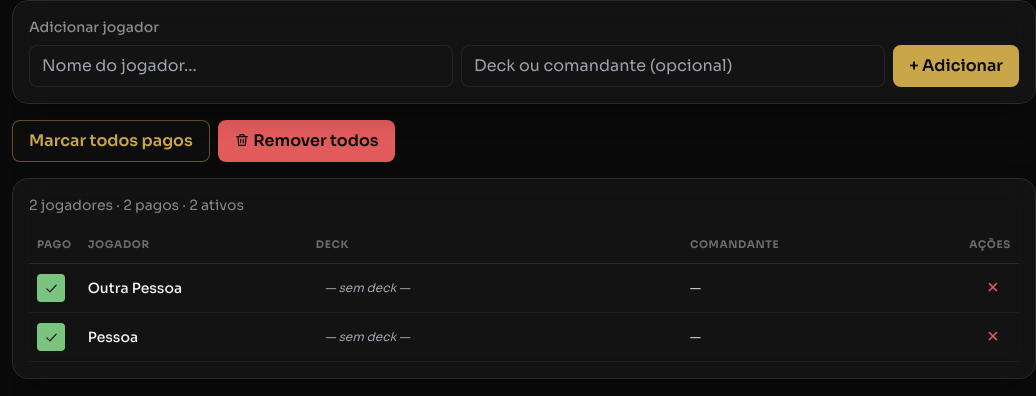
Test: decks › organizador continua buscando decks no cadastro de jogadores
In the dropdown with placeholder "Deck ou comandante (opcional)": (673, 66) [461,45,885,87], type "atraxa"
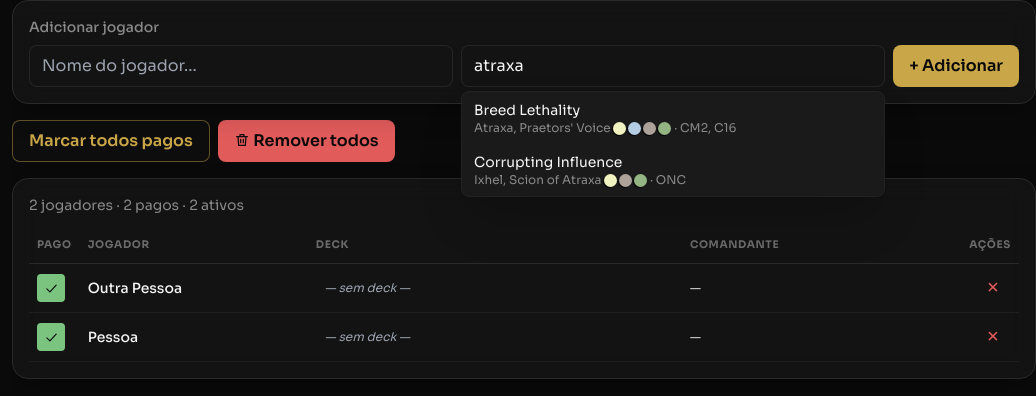
Check: the option "Breed Lethality Atraxa, Praetors' Voice · CM2, C16" is shown, box [462,92,884,144]
